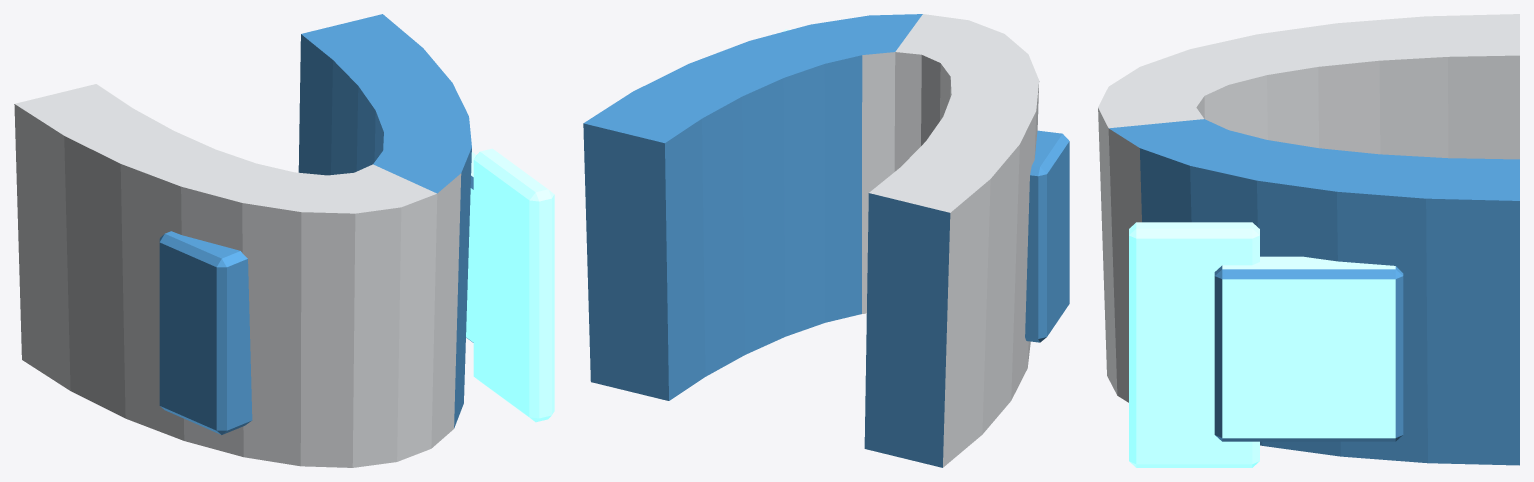
Rendered from left_shoulder__sleek.glb.
The picture shows the model from 3 angles, left to right: view 1: azimuth 30°, elevation 25°; view 2: azimuth 150°, elevation 25°; view 3: azimuth 270°, elevation 25°; orthographic projection. The views are drawn at different scales.
Visible parts, largest first — view 1: armor_left_shoulder__sleek_v001; view 2: armor_left_shoulder__sleek_v001; view 3: armor_left_shoulder__sleek_v001.
Boxes of the visible parts, <box> form: armor_left_shoulder__sleek_v001: <box>14,14,554,467</box>; armor_left_shoulder__sleek_v001: <box>583,14,1069,467</box>; armor_left_shoulder__sleek_v001: <box>1098,14,1519,467</box>.
Bounding box in the file's own units: 0.1772 × 0.1216 × 0.1682.
